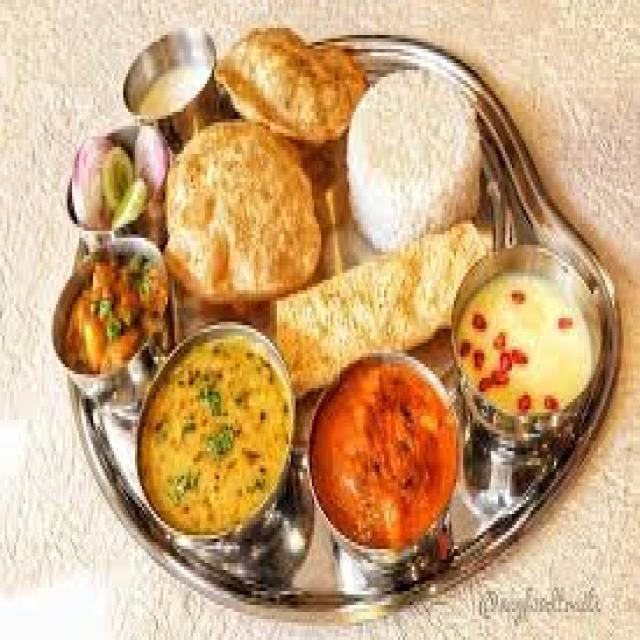dal: (136, 329, 290, 547), (460, 243, 612, 447)
papad: (267, 240, 467, 385), (387, 218, 489, 323)
rice: (135, 322, 297, 546)
veg-fry: (303, 344, 467, 560)
